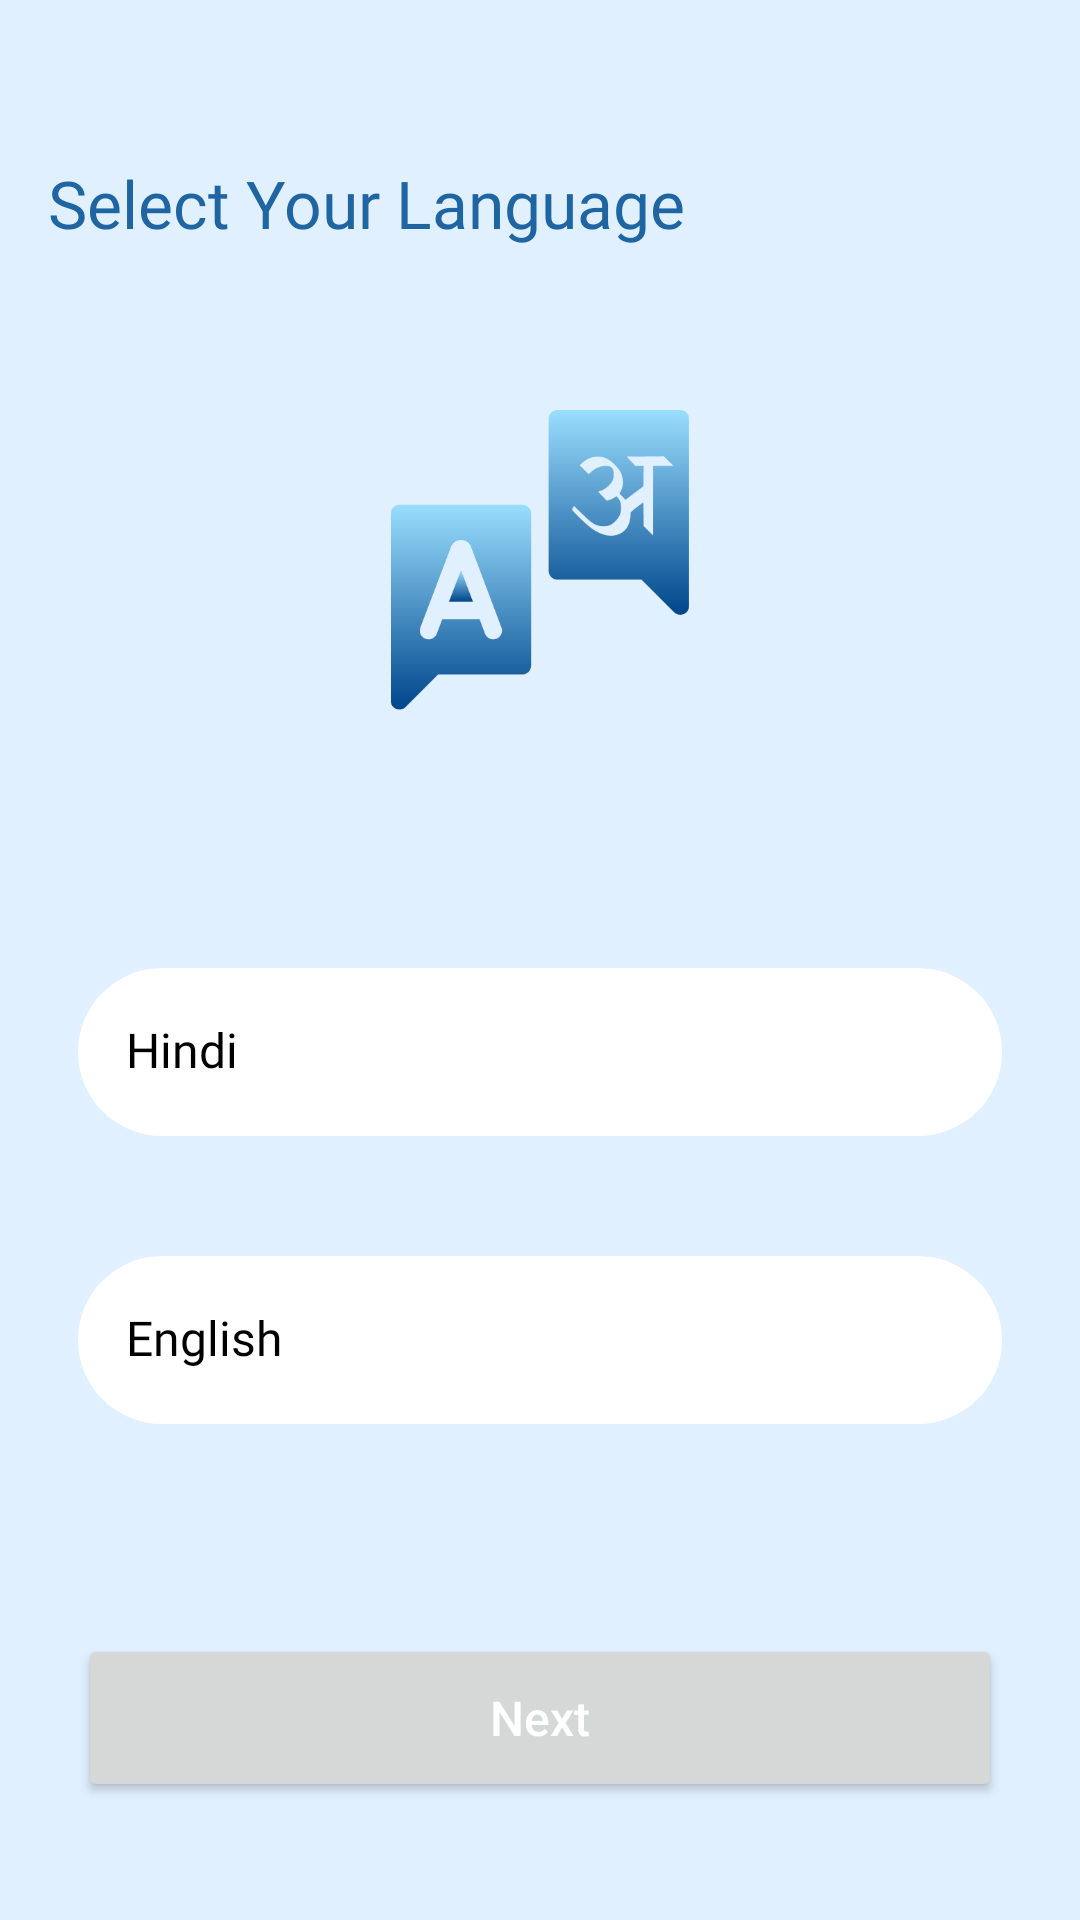

Icon click points for this 1080 × 1920 phone screenshot, format point (x, y):
language: point (540, 560)
